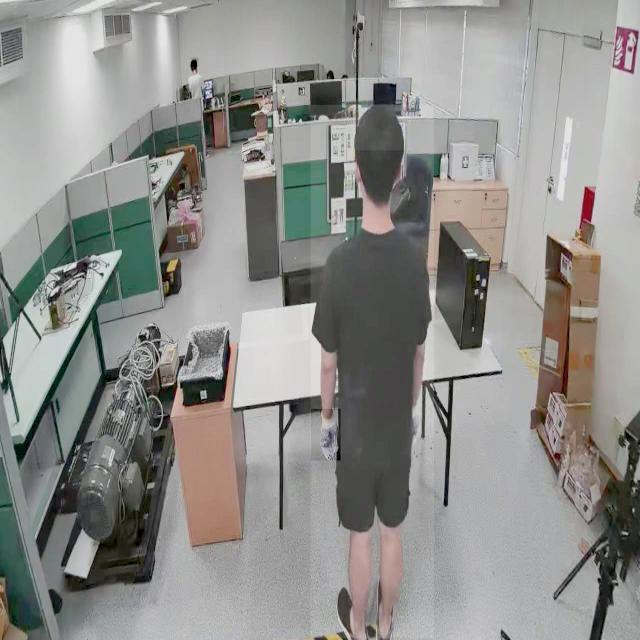hand_glove: (310, 409, 340, 461)
head_nohelmet: (352, 104, 410, 151), (190, 58, 198, 68)
person: (310, 105, 434, 639)
shoes: (334, 583, 368, 640), (375, 572, 399, 640)
